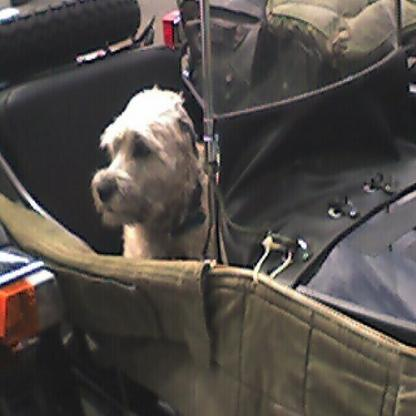dog: (89, 87, 218, 258)
